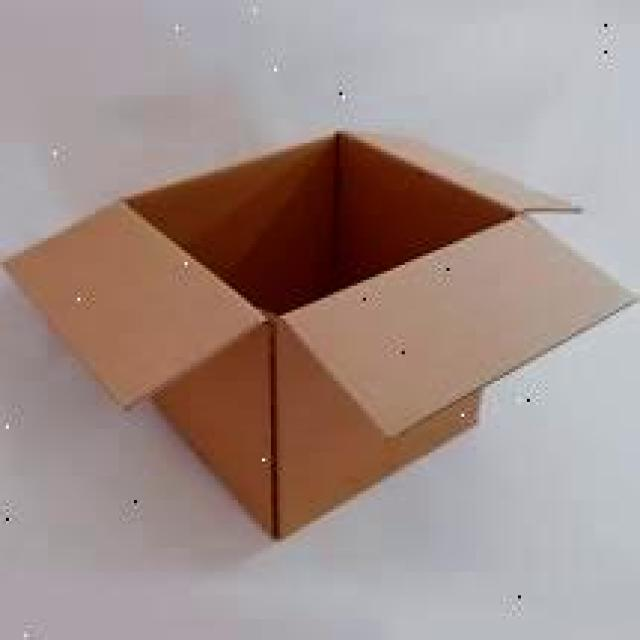box: (1, 129, 640, 543)
opened: (1, 130, 640, 438)
